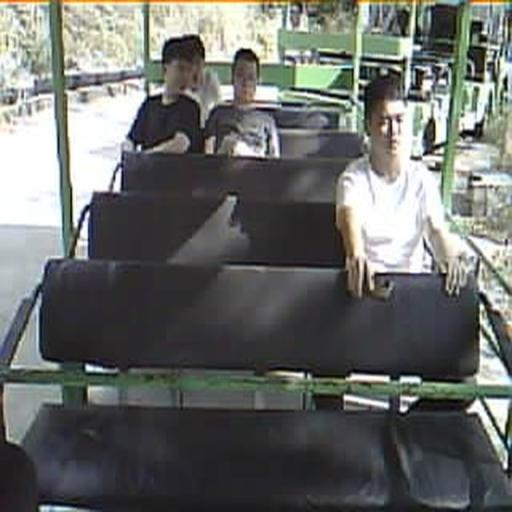persona: (334, 70, 475, 300), (123, 34, 207, 155), (204, 48, 281, 158), (172, 35, 226, 132)
